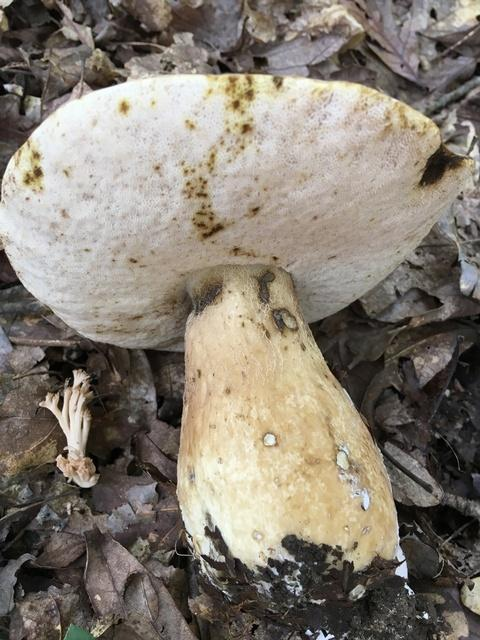poisonous_mushroom: (1, 70, 476, 608)
